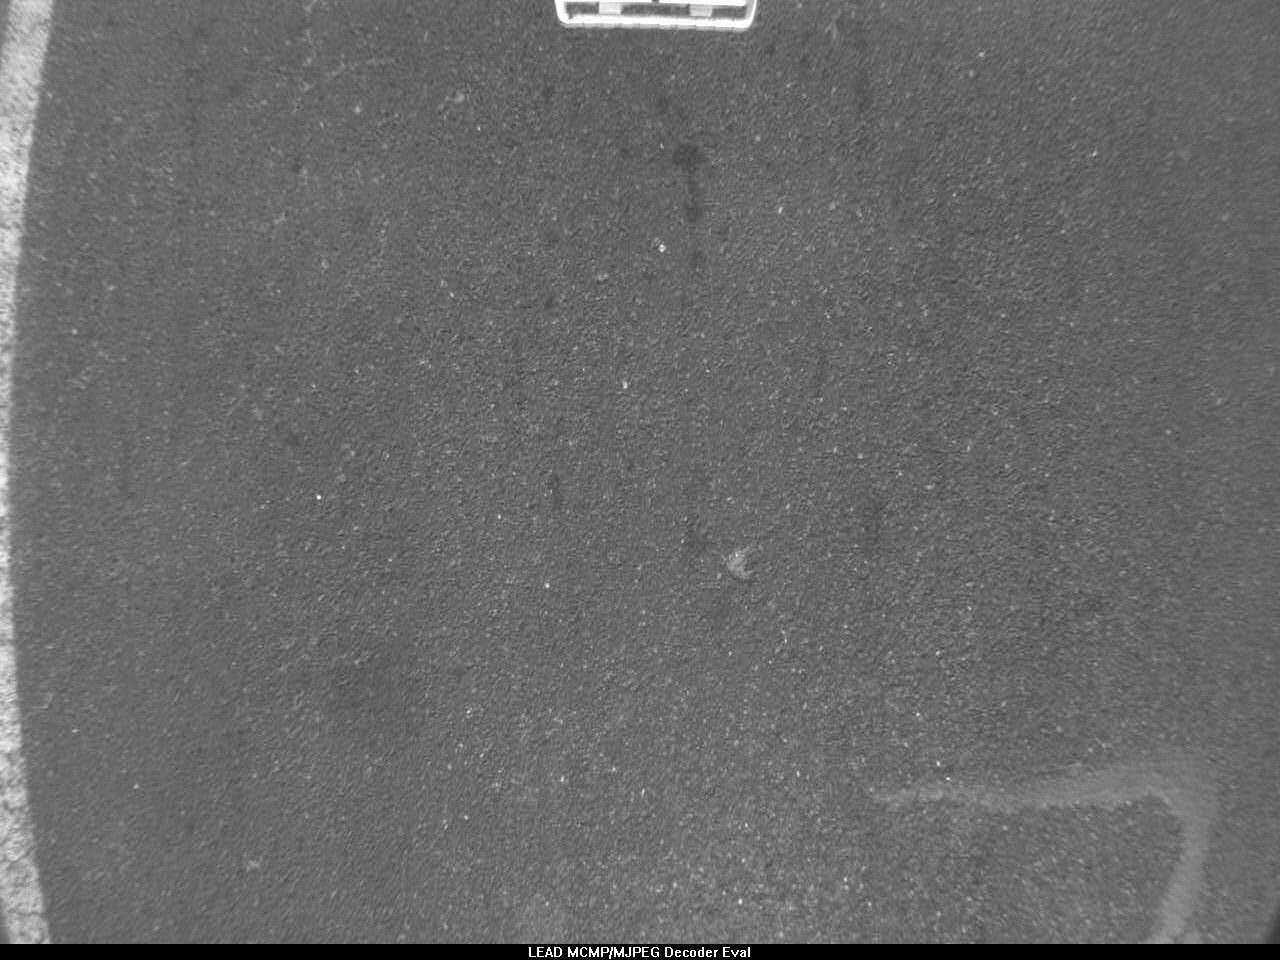sealed: (867, 736, 1241, 935)
